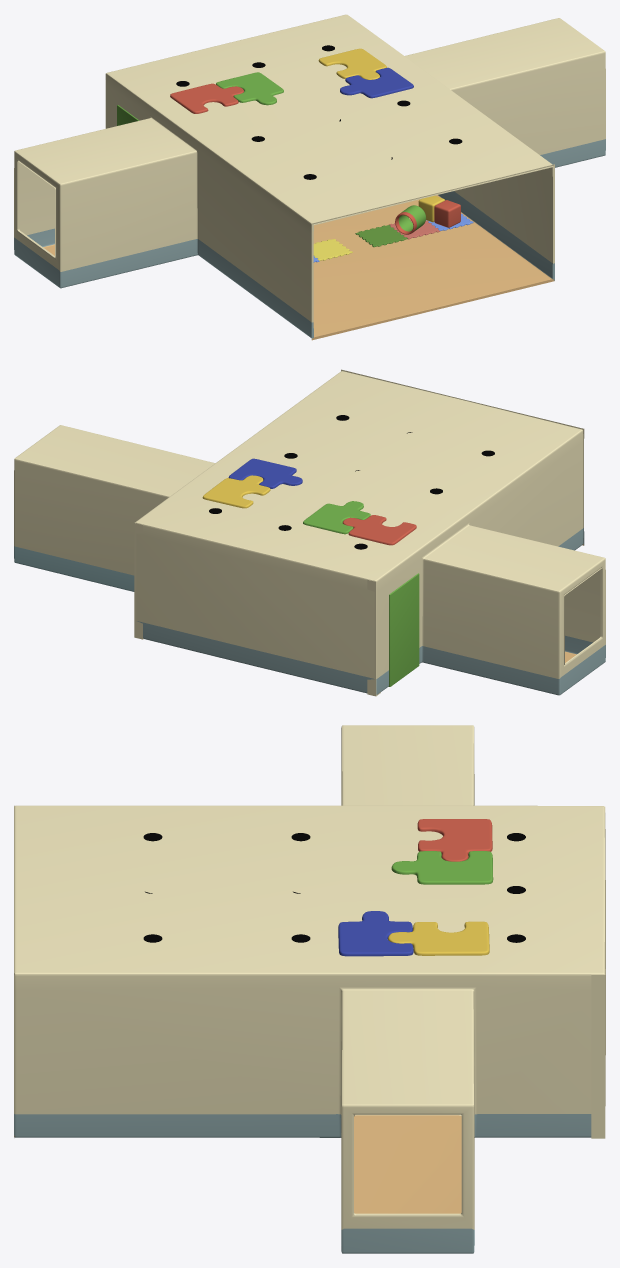
The model's file is polimotor.glb.
3 renders of one model, top to bottom at view 1: azimuth 30°, elevation 25°; view 2: azimuth 150°, elevation 25°; view 3: azimuth 270°, elevation 25°, orthographic. The views are drawn at different scales.
Visible parts, largest first — view 1: Box005.001, Box005, Box005.002, Object002, Object001.001, Object001, Object002.001, Box012, Box011, Box009, Cylinder001; view 2: Box005.001, Box005.002, Box015, Box005.003, Object002.001, Object001.001, Object001, Object002, Box004, Box006; view 3: Box005.001, Box005.002, Box005, Object001, Object002, Object002.001, Object001.001, Box006.
Part boxes in pixels (left/top/right/bottom): Box005.001: left=14, top=14, right=605, bottom=322; Box005: left=43, top=195, right=554, bottom=340; Box005.002: left=14, top=139, right=605, bottom=339; Object002: left=340, top=67, right=413, bottom=98; Object001.001: left=170, top=83, right=243, bottom=113; Object001: left=216, top=72, right=283, bottom=105; Object002.001: left=318, top=48, right=386, bottom=79; Box012: left=355, top=225, right=407, bottom=247; Box011: left=434, top=200, right=460, bottom=227; Box009: left=313, top=239, right=352, bottom=260; Cylinder001: left=398, top=205, right=426, bottom=231; Box005.001: left=14, top=369, right=605, bottom=678; Box005.002: left=137, top=528, right=605, bottom=695; Box015: left=388, top=573, right=419, bottom=686; Box005.003: left=14, top=546, right=134, bottom=591; Object002.001: left=202, top=475, right=270, bottom=508; Object001.001: left=342, top=515, right=416, bottom=545; Object001: left=303, top=501, right=370, bottom=534; Object002: left=228, top=458, right=302, bottom=488; Box004: left=367, top=579, right=380, bottom=696; Box006: left=134, top=522, right=143, bottom=639; Box005.001: left=14, top=725, right=605, bottom=1229; Box005.002: left=14, top=1114, right=591, bottom=1253; Box005: left=14, top=1115, right=461, bottom=1213; Object001: left=391, top=851, right=493, bottom=884; Object002: left=338, top=911, right=413, bottom=956; Object002.001: left=388, top=921, right=489, bottom=955; Object001.001: left=417, top=819, right=492, bottom=861; Box006: left=591, top=969, right=605, bottom=1138.
Size of the model in its own units: 8.08 by 1.67 by 5.3.
